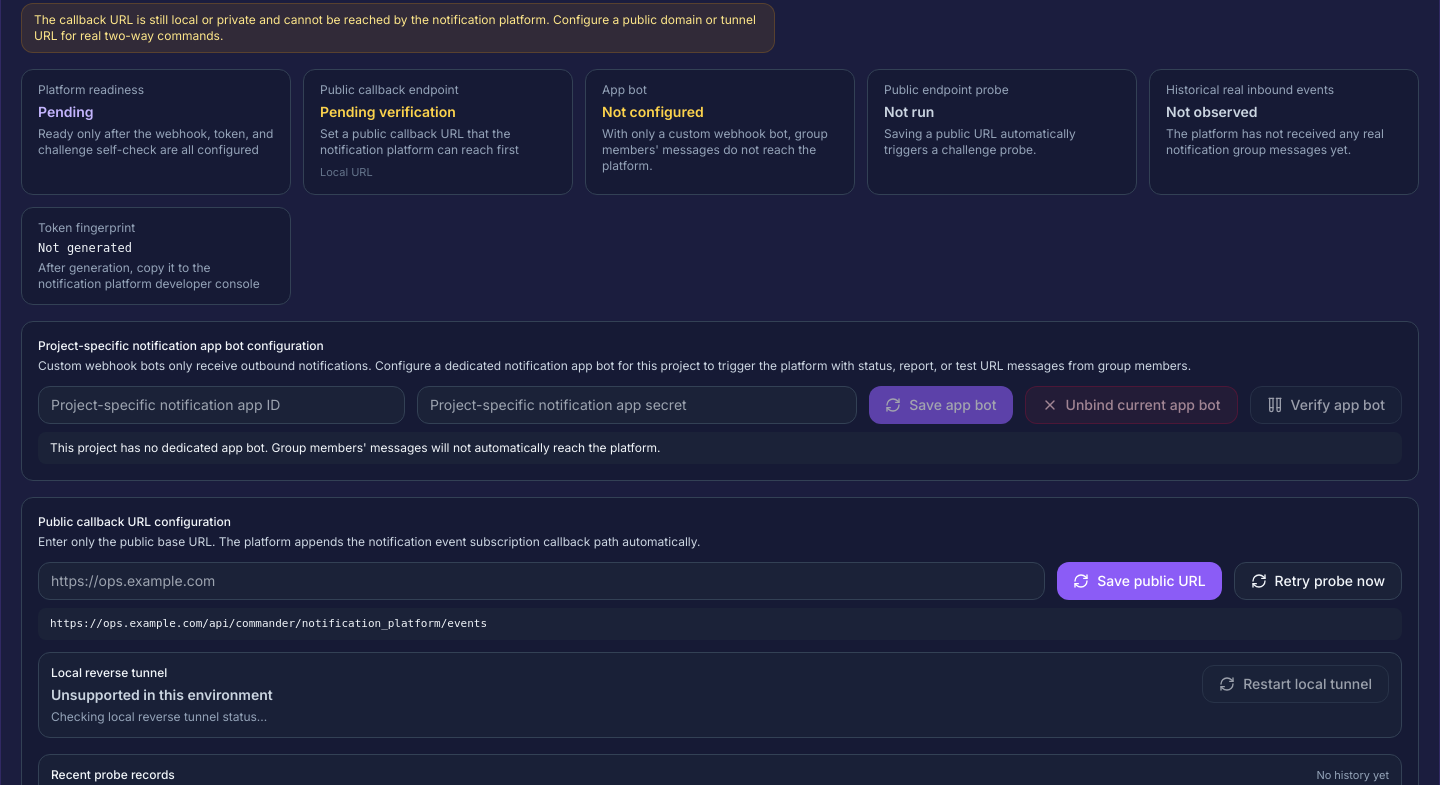
Test: NotificationPage › should render single-robot strategy with webhook fallback after app bot is configured
(page scrolled)
Type "cli_demo_bot" into the field with placeholder "Project-specific notification app ID".
click(221, 405); type("cli_demo_bot")  # box [38,386,405,424]
(page scrolled)
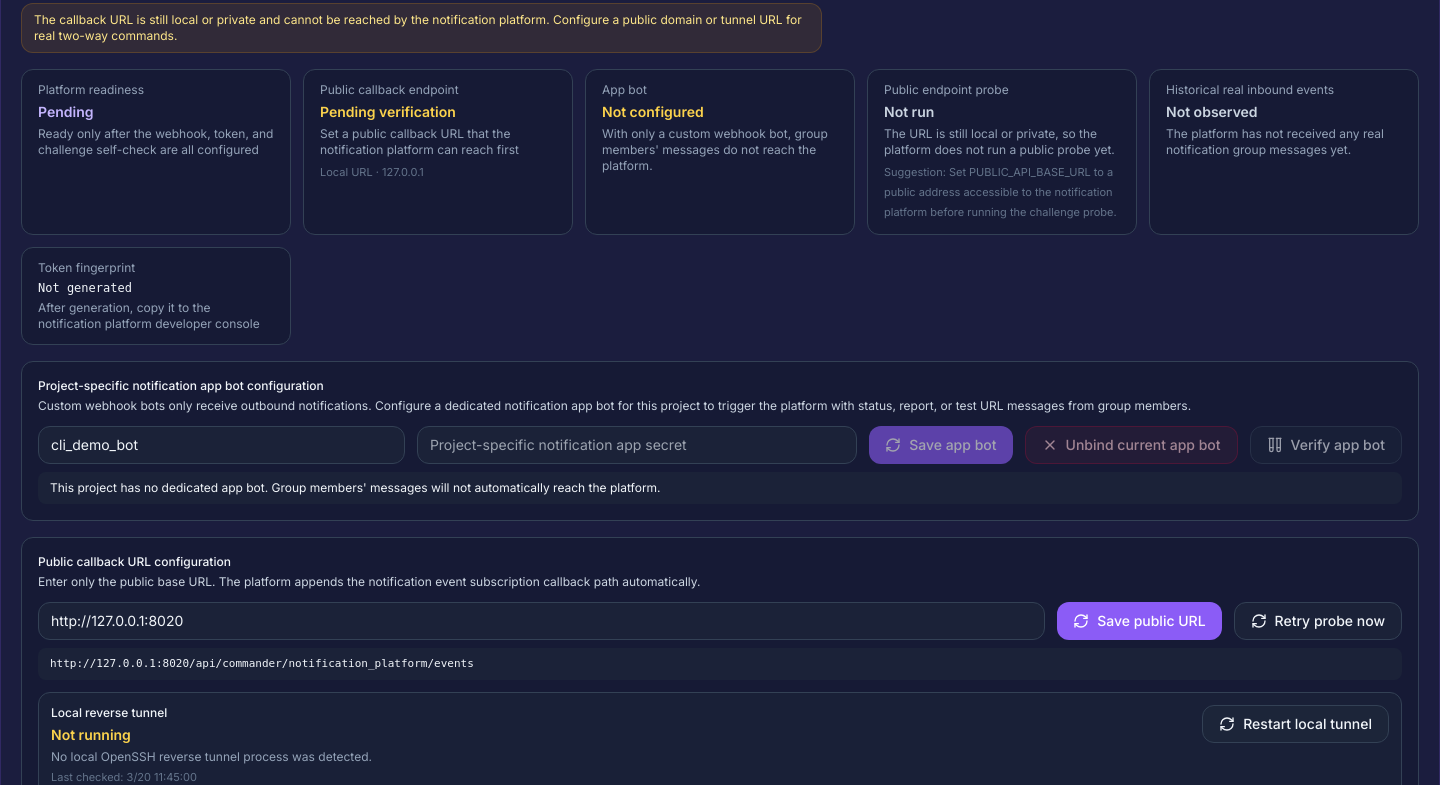
Type "secret-demo" into the password field with placeholder "Project-specific notification app secret".
click(637, 445); type("secret-demo")  # box [417,426,857,464]
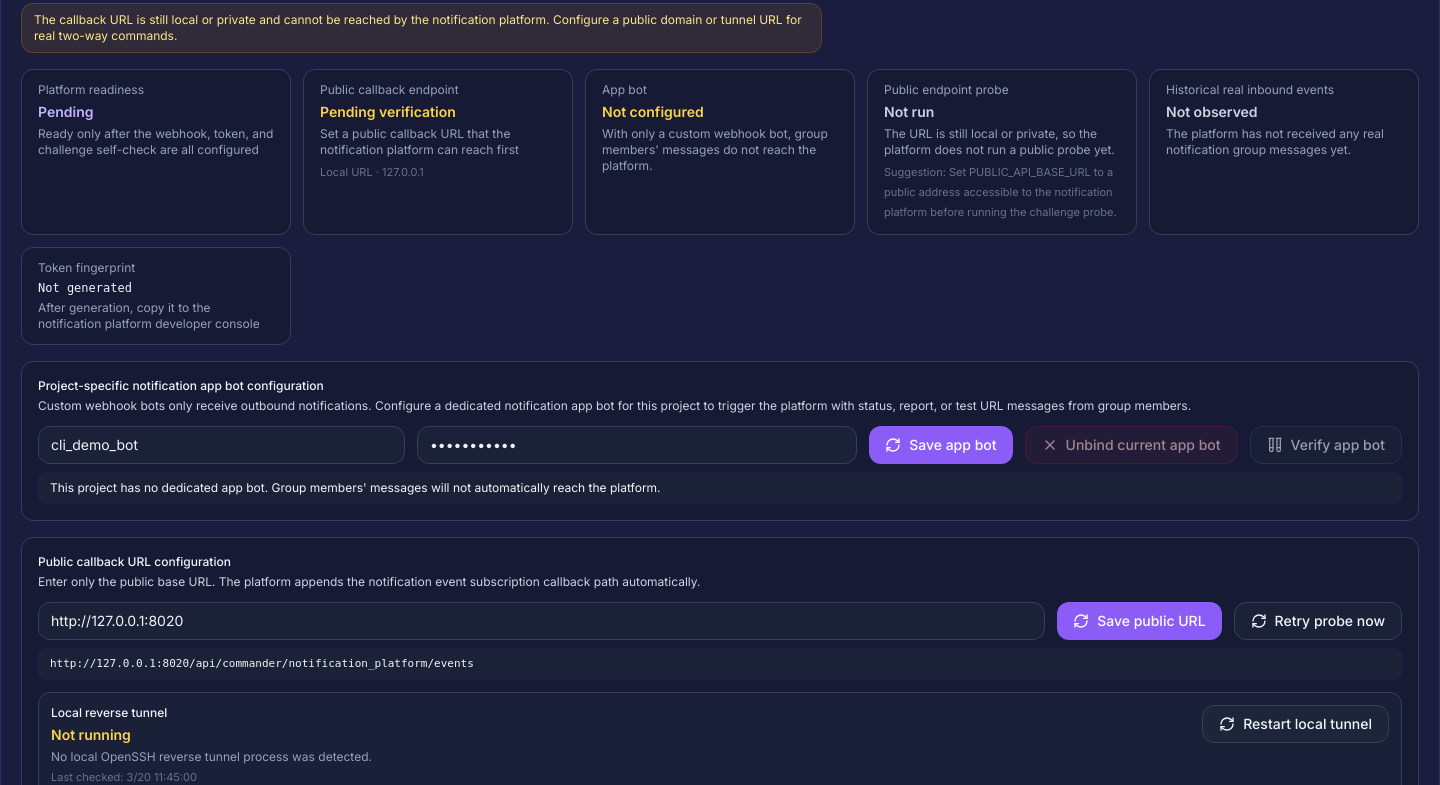
Click the button "Save app bot".
click(941, 445)  # box [869,426,1013,464]
(page scrolled)
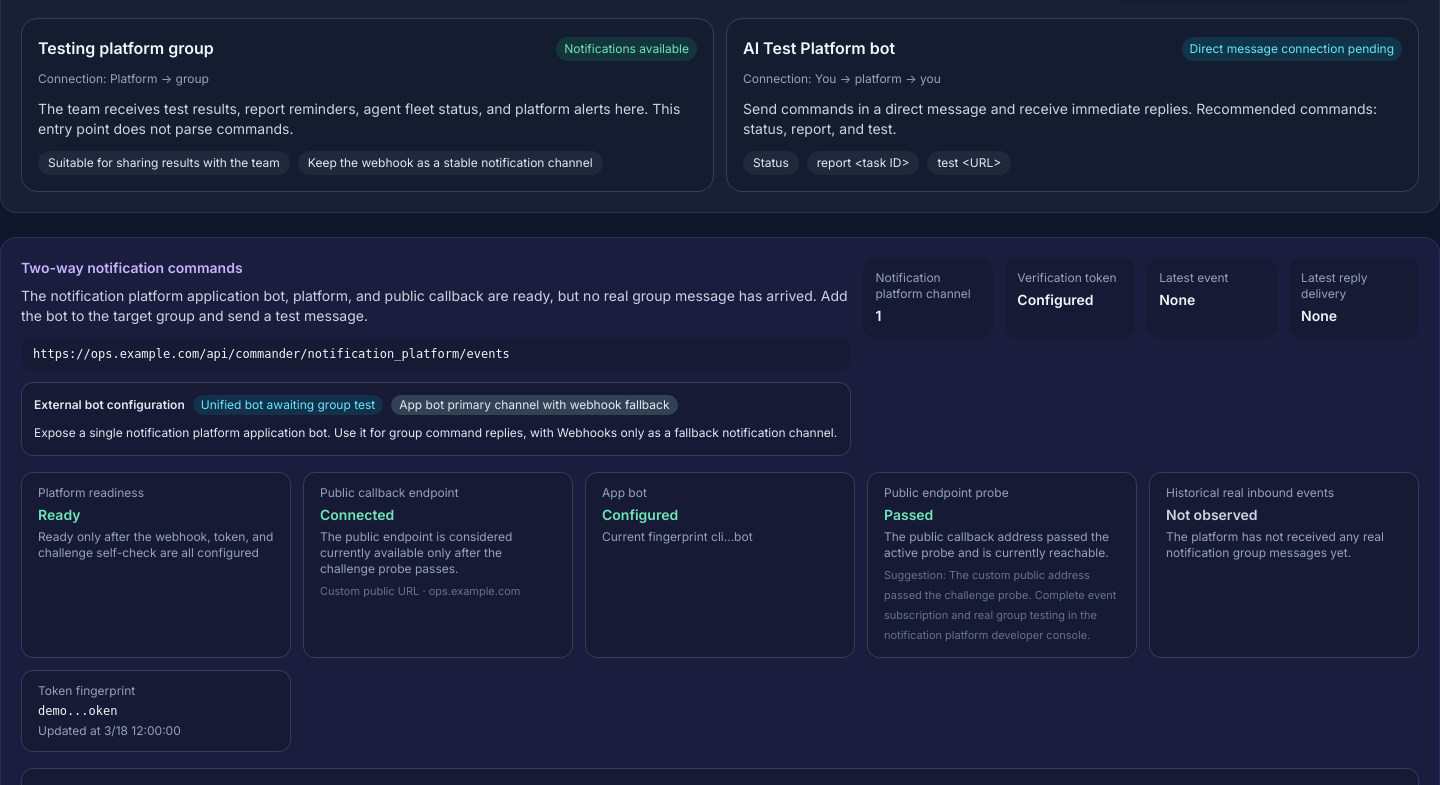
Now the text "Unified bot awaiting group test" is shown, box [193,395,383,415]
Now the text "App bot primary channel with webhook fallback" is shown, box [391,395,678,415]
